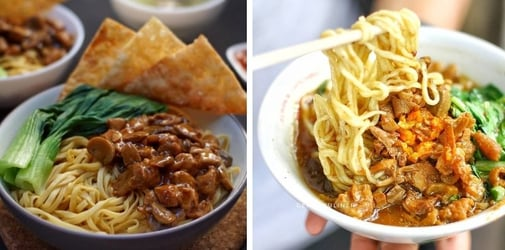Mie: (38, 92, 218, 229), (317, 77, 499, 212)
